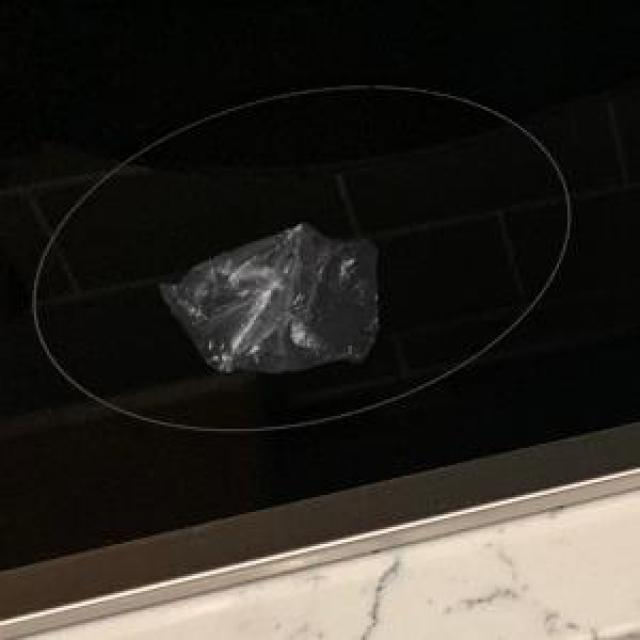waste: (160, 222, 379, 373)
